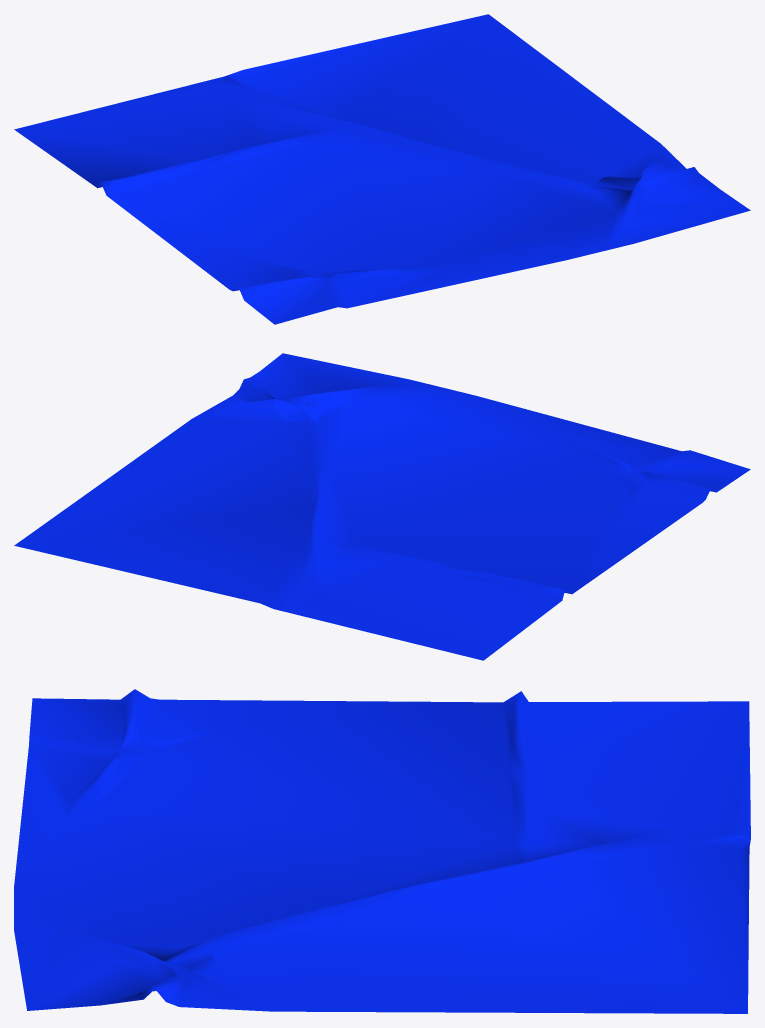
File: Carpet01.fbx
3 views of the same model, one above another, from view 1: azimuth 30°, elevation 25°; view 2: azimuth 150°, elevation 25°; view 3: azimuth 270°, elevation 25° (orthographic). The views are drawn at different scales.
Visible parts, largest first — view 1: Carpet01; view 2: Carpet01; view 3: Carpet01.
Part boxes in pixels (<box>): Carpet01: <box>14,14,750,324</box>; Carpet01: <box>14,353,750,660</box>; Carpet01: <box>14,689,750,1013</box>.
Size of the model in its own units: 119 by 2.63 by 118.
